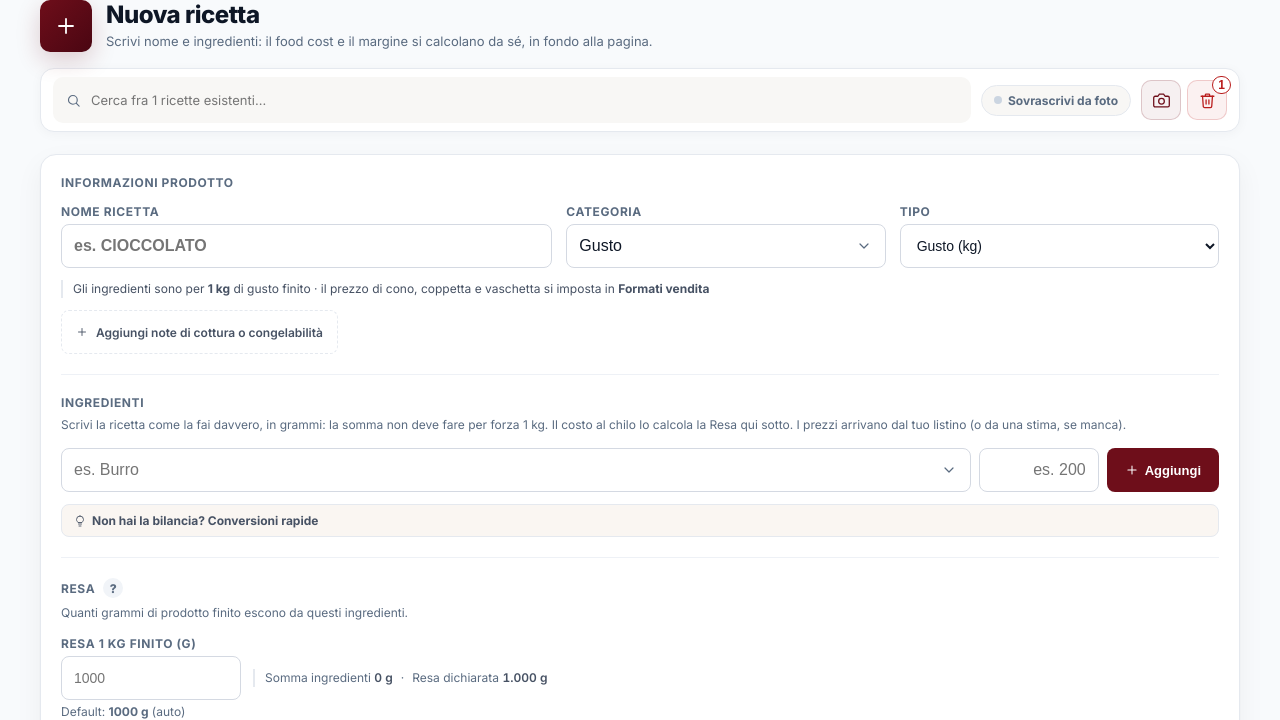
it: In Nuovo gusto un ingrediente inventato non entra › al suo posto si apre la finestra per crearla davvero
This screenshot has width=1280, height=720.
Type "Aceto balsamicp" into the dropdown named "Nome ingrediente da aggiungere" at (516, 470), box [61, 448, 971, 492]
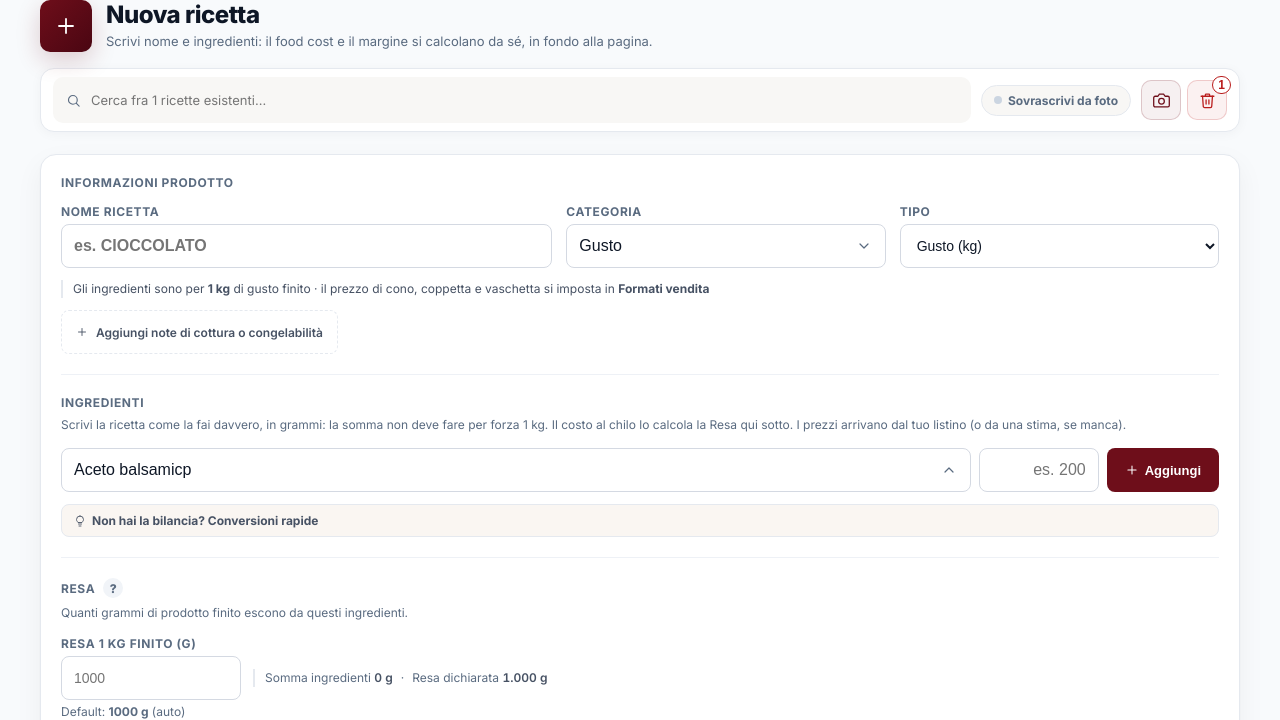
Type "50" into the field named "Grammi di ingrediente da aggiungere" at (1039, 470), box [979, 448, 1099, 492]
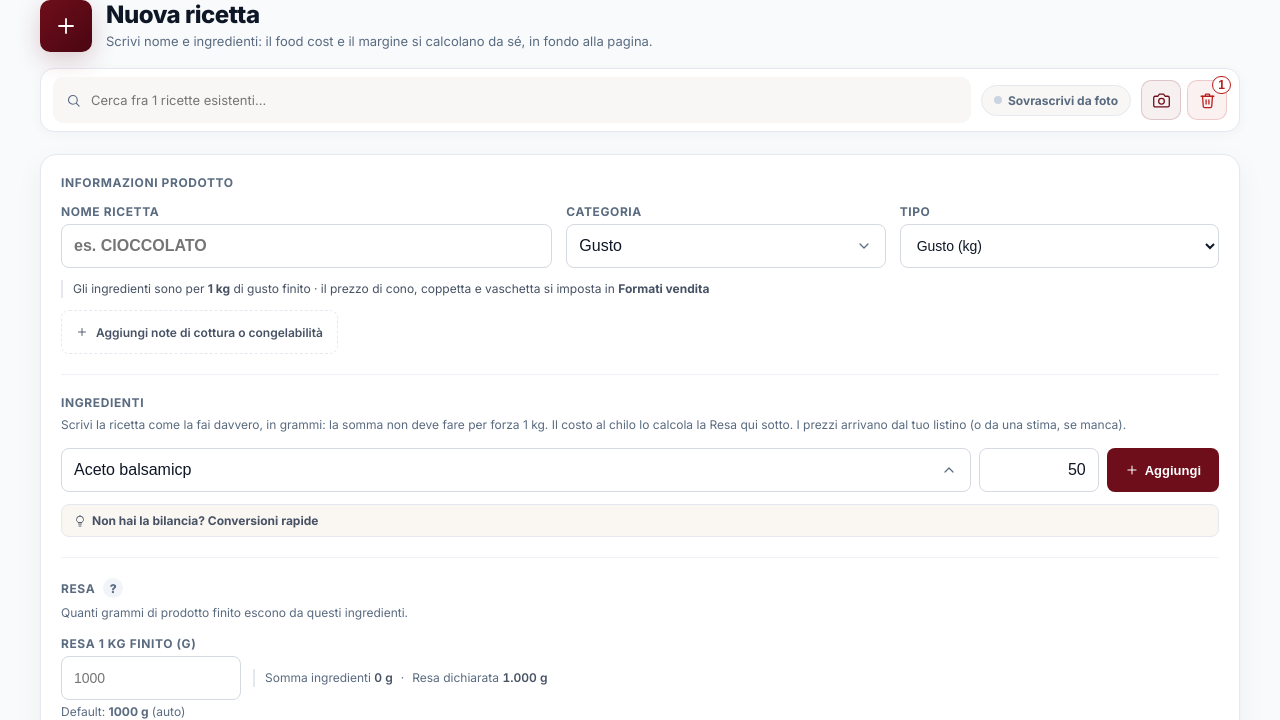
Click the button with aria-label "Aggiungi ingrediente alla ricetta" at (1163, 470), box [1107, 448, 1219, 492]
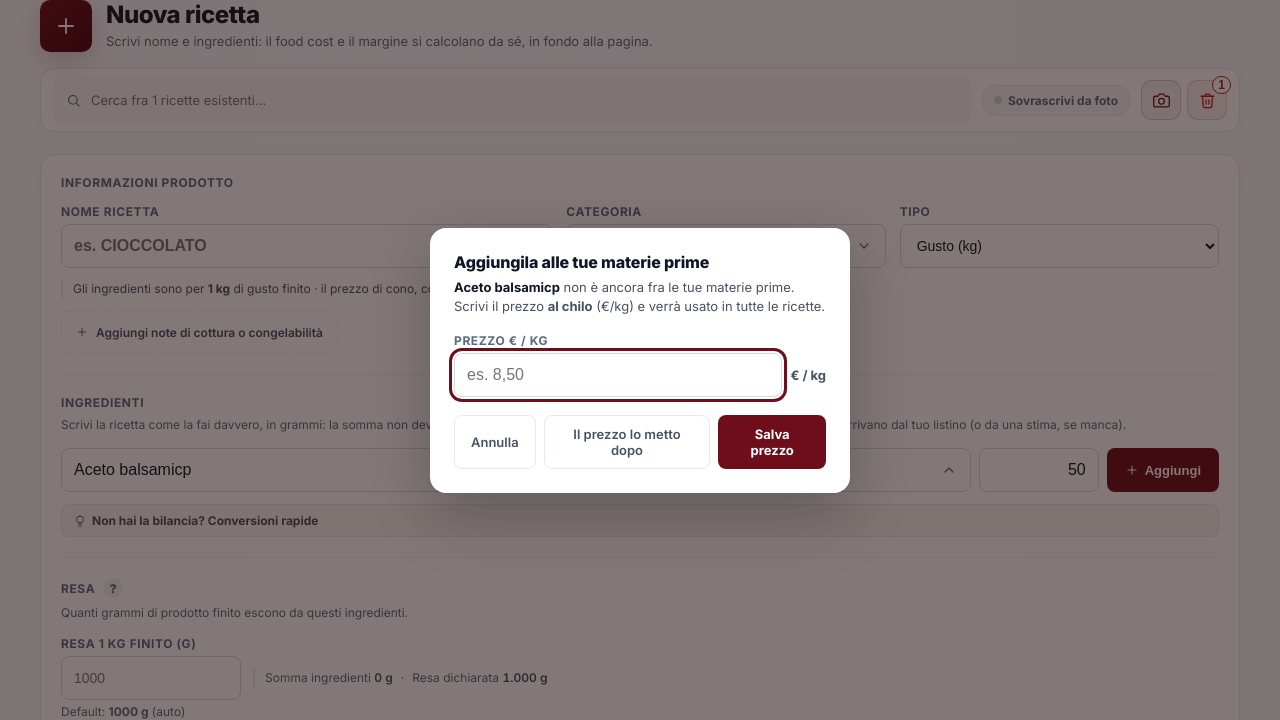
Expected: the dialog is shown
Expected: the dialog shows "Aceto balsamicp", [454, 278, 560, 294]
